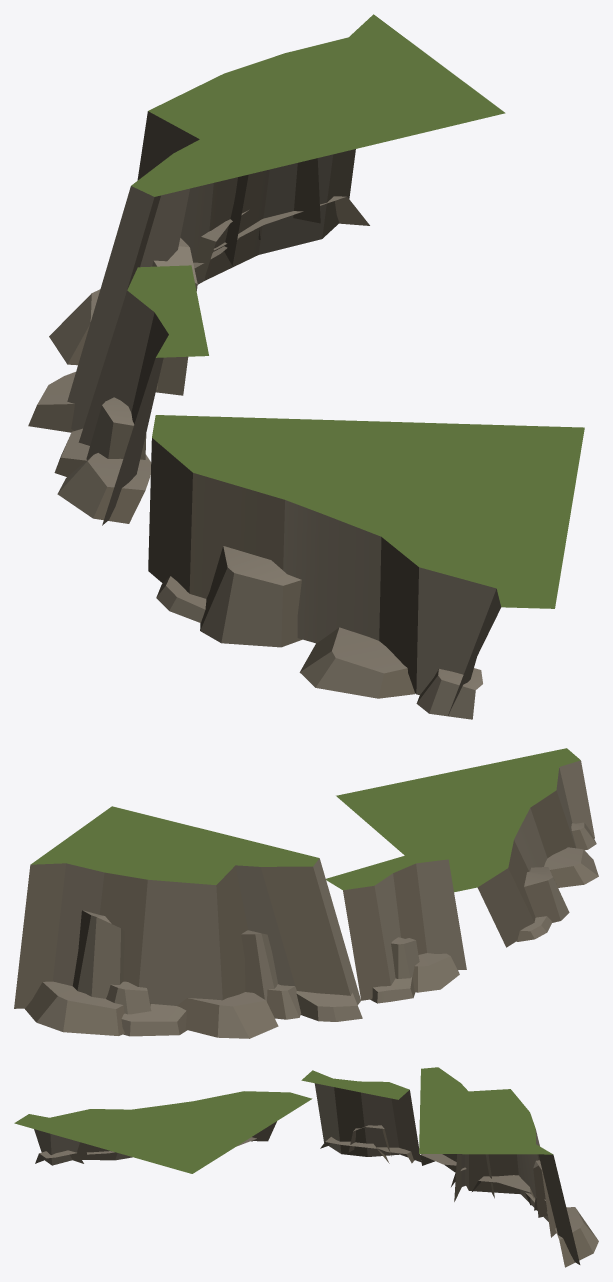
The model's file is Mountain8.fbx.
The picture shows the model from 3 angles, top to bottom: view 1: azimuth 30°, elevation 25°; view 2: azimuth 150°, elevation 25°; view 3: azimuth 270°, elevation 25°; orthographic projection. The views are drawn at different scales.
Parts seen in each view (by area): view 1: Mountain8; view 2: Mountain8; view 3: Mountain8.
Part boxes in pixels (x1=…): Mountain8: x1=28, y1=14, x2=584, y2=719; Mountain8: x1=14, y1=748, x2=598, y2=1038; Mountain8: x1=14, y1=1067, x2=598, y2=1267.
Size of the model in its own units: 58.3 by 24.43 by 109.
